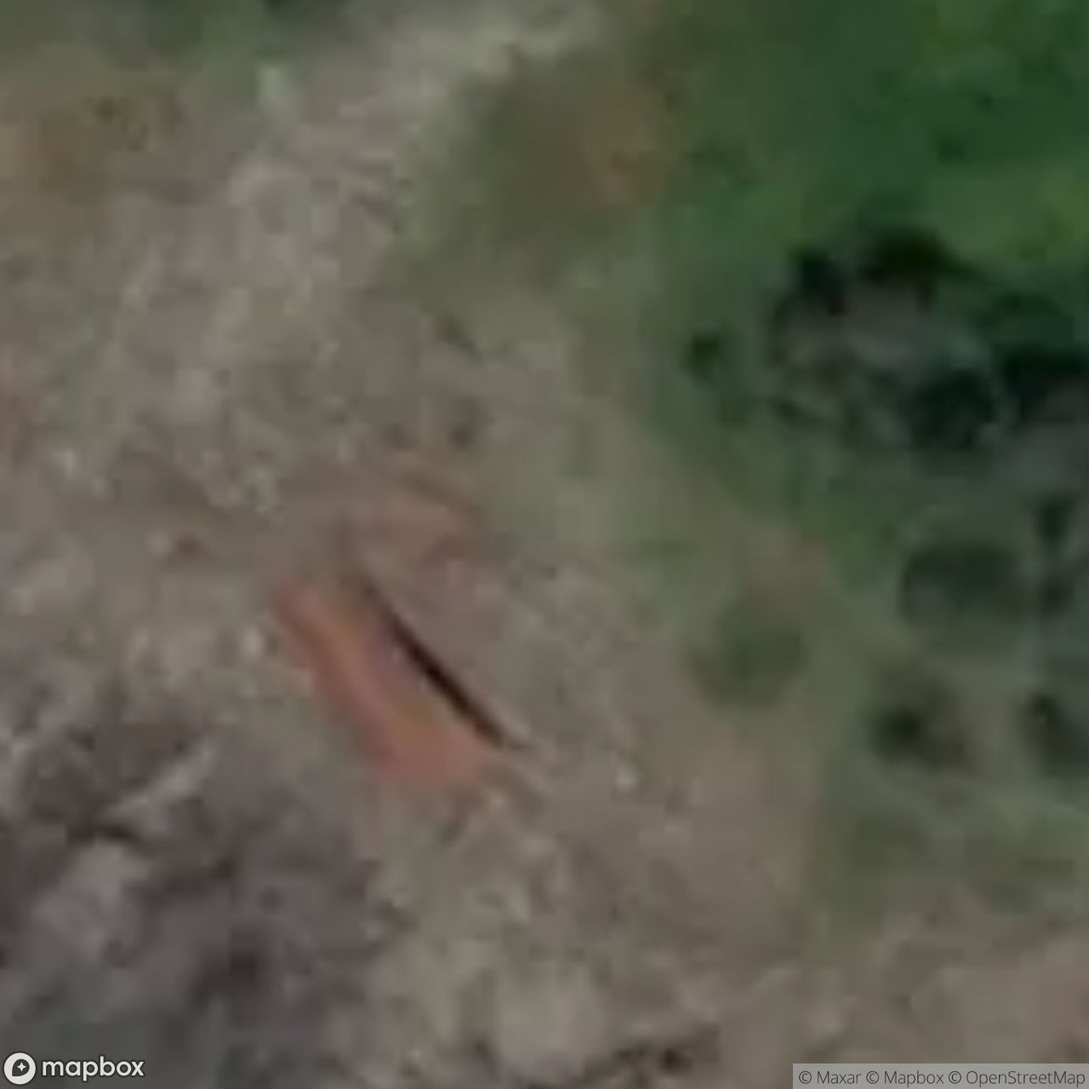Wreck: (254, 518, 577, 812)
